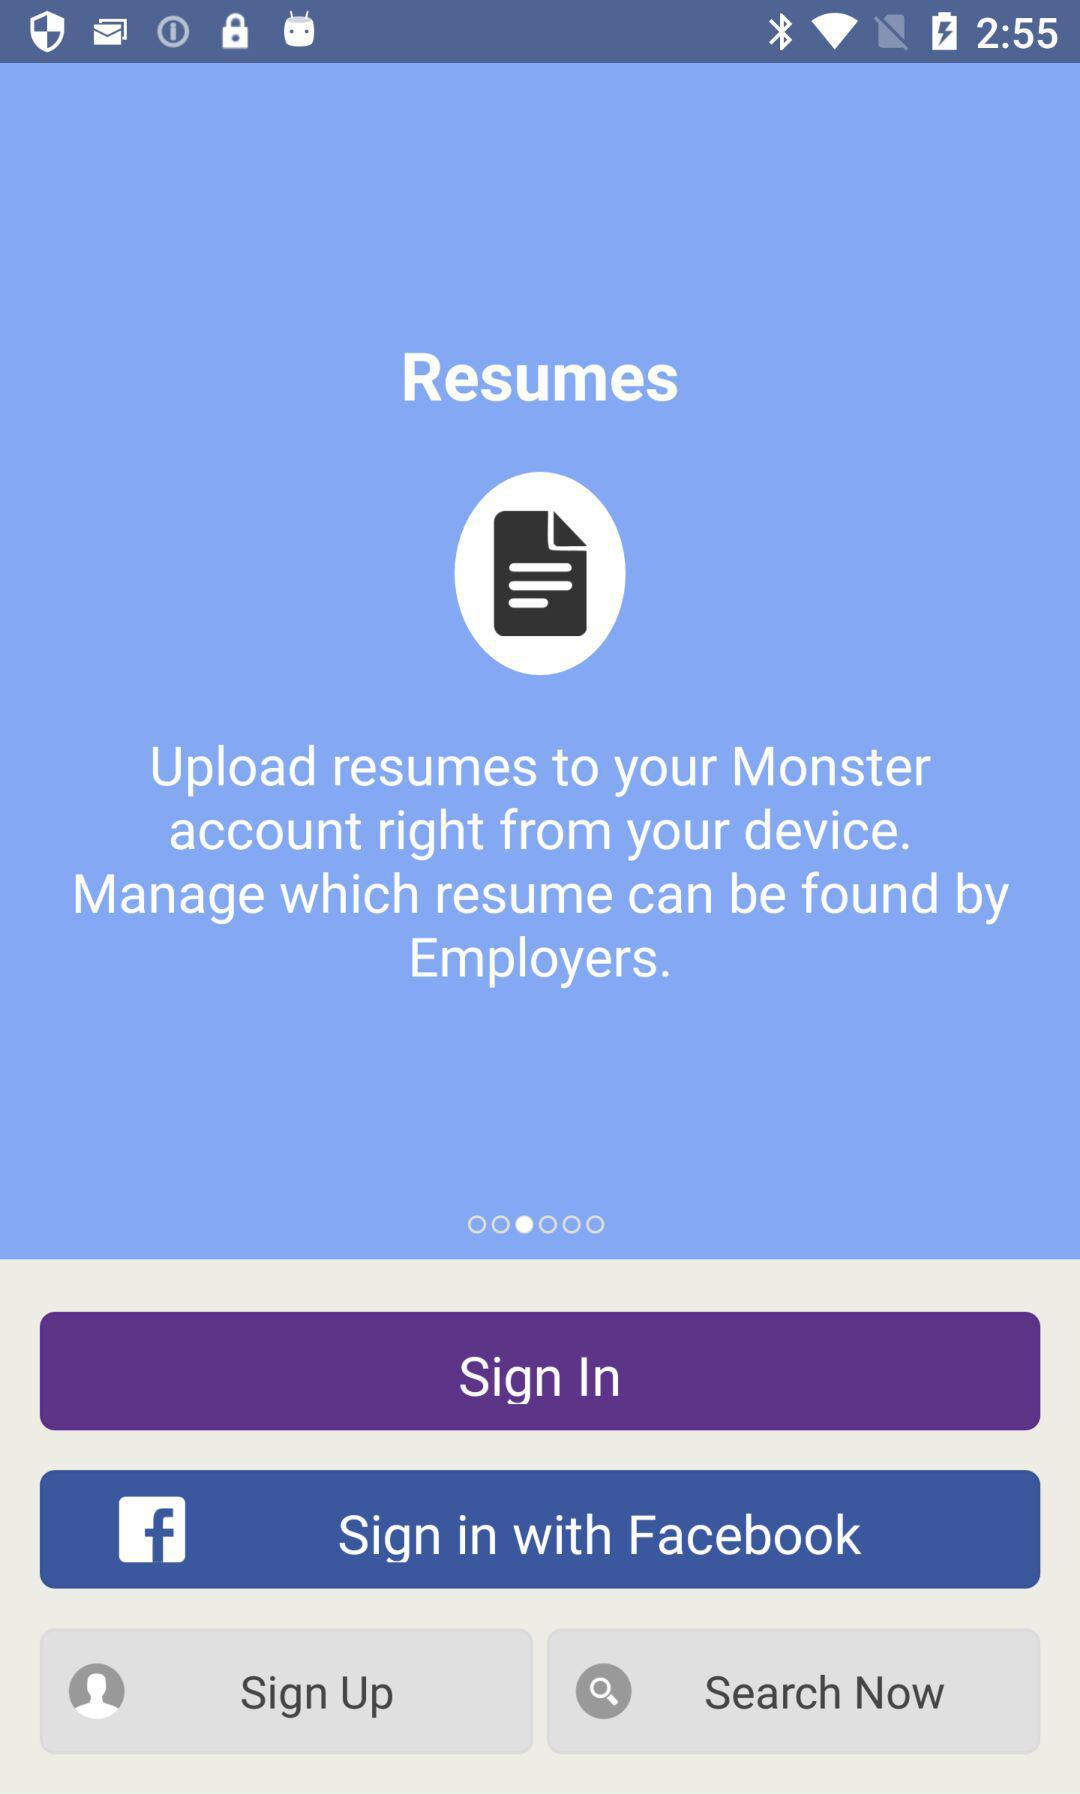Image: (452, 470, 626, 675)
PageIndicator: (466, 1212, 607, 1238)
Text: (74, 869, 1010, 991), (150, 742, 931, 861), (402, 352, 679, 405)
TextButton: (40, 1469, 1042, 1590), (40, 1311, 1042, 1431), (40, 1627, 534, 1756), (547, 1627, 1042, 1756)
UpperTaskBar: (1, 1, 1080, 64)
